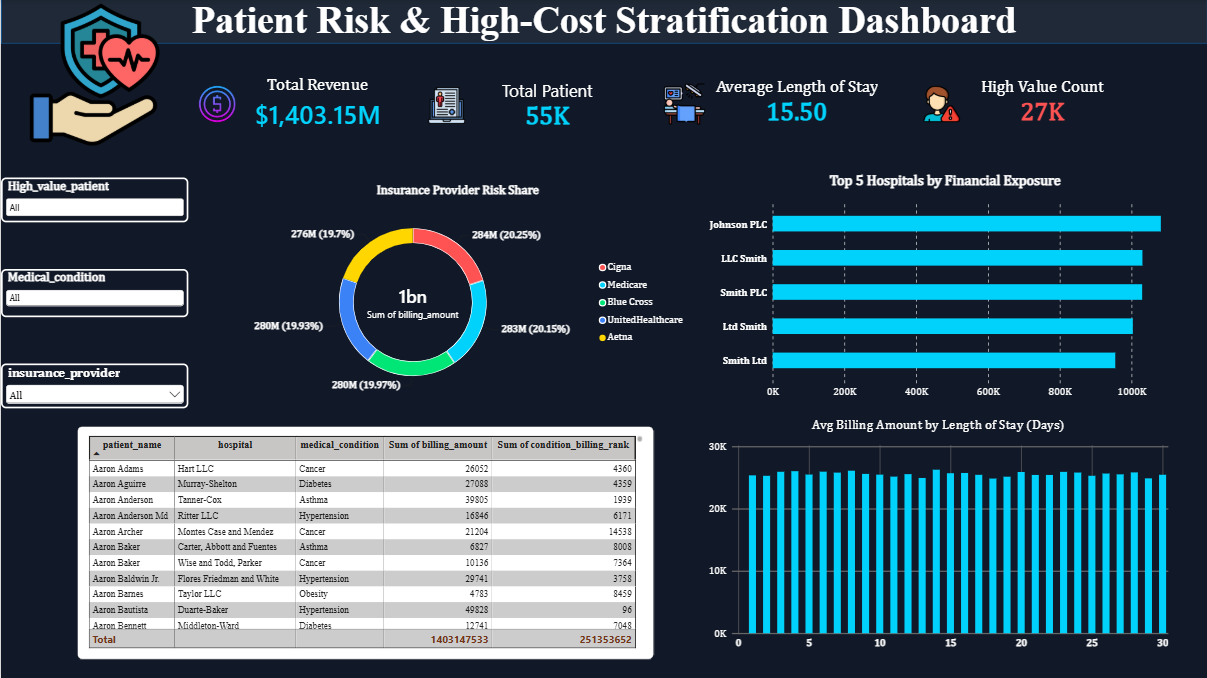

Layout of this report page (visuals, bound fields, positions):
{"tool":"powerbi","page":{"name":"Page 1","canvas":[1920,1080],"ordinal":0},"visuals":[{"type":"shape","box":[0,0,1919.1,70.9],"z":0},{"type":"image","box":[0,0,297.6,240.9],"z":1000},{"type":"cardVisual","fields":{"Data":["Healthcare featured_Dataset.Total Revenue"]},"box":[297.6,93.5,340.2,150.2],"z":2000},{"type":"cardVisual","fields":{"Data":["Healthcare featured_Dataset.Total Patient"]},"box":[663.3,96.4,340.2,150.2],"z":3000},{"type":"cardVisual","fields":{"Data":["Healthcare featured_Dataset.Average Length of Stay"]},"box":[1037.5,93.5,377,150.2],"z":4000},{"type":"cardVisual","fields":{"Data":["Healthcare featured_Dataset.High Value Count"]},"box":[1451.3,93.5,340.2,150.2],"z":5000},{"type":"clusteredBarChart","title":"Top 5 Hospitals by Financial Exposure","fields":{"Category":["Healthcare featured_Dataset.hospital"],"Y":["Sum(Healthcare featured_Dataset.billing_amount)"]},"box":[1109.5,262.5,785,388.9],"z":6000},{"type":"donutChart","title":"Insurance Provider Risk Share","fields":{"Category":["Healthcare featured_Dataset.insurance_provider"],"Y":["Sum(Healthcare featured_Dataset.billing_amount)"]},"box":[343.6,279.2,765.9,372.2],"z":7000},{"type":"clusteredColumnChart","title":"Avg Billing Amount by Length of Stay (Days)","fields":{"Category":["Healthcare featured_Dataset.length_of_stay"],"Y":["Avg(Healthcare featured_Dataset.billing_amount)"]},"box":[1109.5,651.4,763.5,398.4],"z":8000},{"type":"tableEx","fields":{"Values":["Healthcare featured_Dataset.patient_name","Healthcare featured_Dataset.hospital","Healthcare featured_Dataset.medical_condition","Sum(Healthcare featured_Dataset.billing_amount)","Sum(Healthcare featured_Dataset.condition_billing_rank)"]},"box":[121.7,680,916.2,369.8],"z":10000},{"type":"slicer","fields":{"Values":["Healthcare featured_Dataset.high_value_patient"]},"box":[0,283.9,298.2,71.6],"z":11000},{"type":"slicer","fields":{"Values":["Healthcare featured_Dataset.medical_condition"]},"box":[0,429.5,298.2,76.3],"z":12000},{"type":"slicer","fields":{"Values":["Healthcare featured_Dataset.insurance_provider"]},"box":[0,579.8,298.2,71.6],"z":13000}]}

Visuals, with their boxes in screenshot pixels (x1, y1, x2, y2), scaled from the page's 1920x1080 canvas onto the 1207x678 screenshot:
shape: crop(0, 0, 1206, 45)
image: crop(0, 0, 187, 151)
cardVisual - Healthcare featured_Dataset.Total Revenue: crop(187, 59, 401, 153)
cardVisual - Healthcare featured_Dataset.Total Patient: crop(417, 61, 631, 155)
cardVisual - Healthcare featured_Dataset.Average Length of Stay: crop(652, 59, 889, 153)
cardVisual - Healthcare featured_Dataset.High Value Count: crop(912, 59, 1126, 153)
"Top 5 Hospitals by Financial Exposure" clusteredBarChart: crop(697, 165, 1191, 409)
"Insurance Provider Risk Share" donutChart: crop(216, 175, 697, 409)
"Avg Billing Amount by Length of Stay (Days)" clusteredColumnChart: crop(697, 409, 1177, 659)
tableEx - Healthcare featured_Dataset.patient_name x Healthcare featured_Dataset.hospital: crop(77, 427, 652, 659)
slicer - Healthcare featured_Dataset.high_value_patient: crop(0, 178, 187, 223)
slicer - Healthcare featured_Dataset.medical_condition: crop(0, 270, 187, 318)
slicer - Healthcare featured_Dataset.insurance_provider: crop(0, 364, 187, 409)
